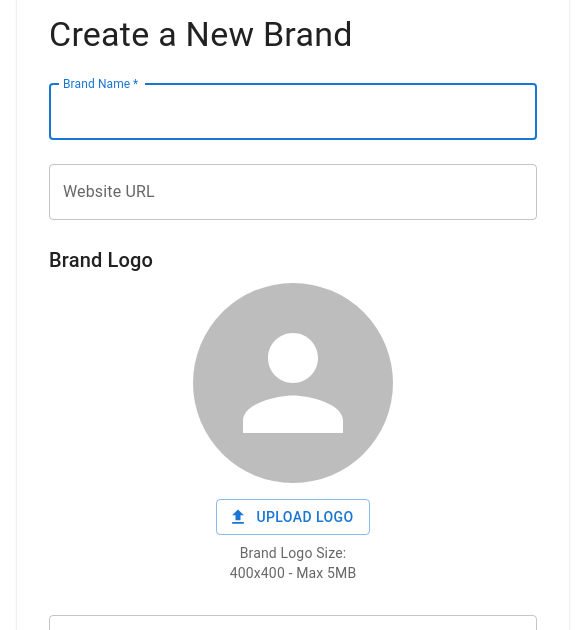
Test: BrandCreateForm › Create Mode › displays a server error message on failure
Type "My Awesome Brand" into the field labelled "Brand Name *".
click(293, 112); type("My Awesome Brand")  # box [49,84,537,140]
(page scrolled)
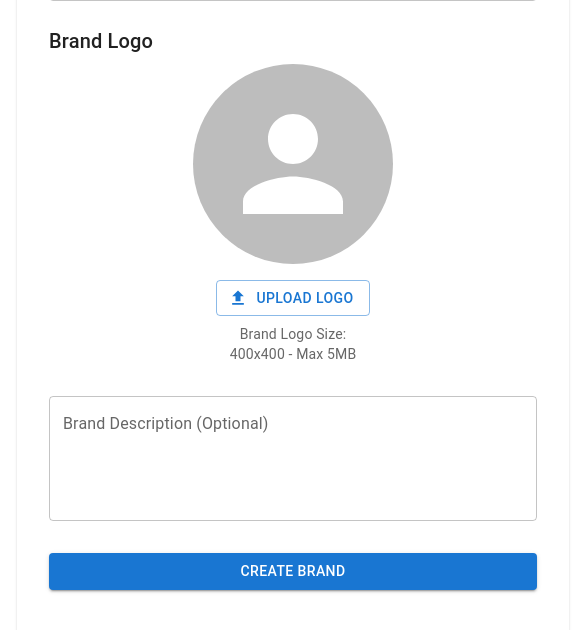
Click the button "Create Brand".
click(293, 572)  # box [49,553,537,590]
(page scrolled)
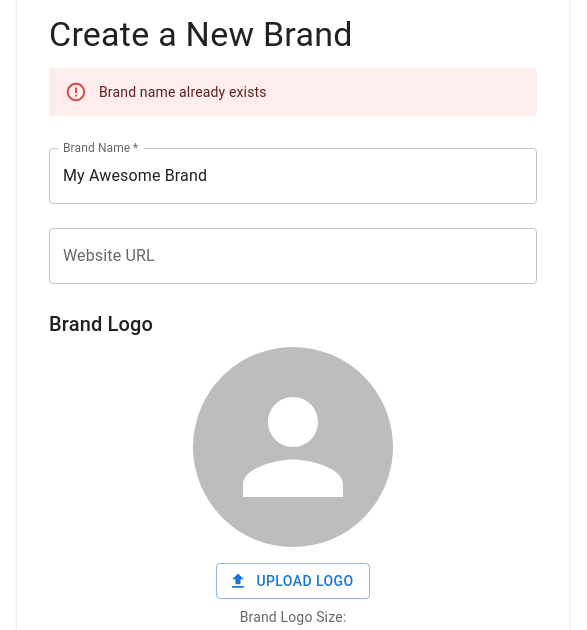
Expected: the text "Brand name already exists" is shown, [99,84,267,100]
